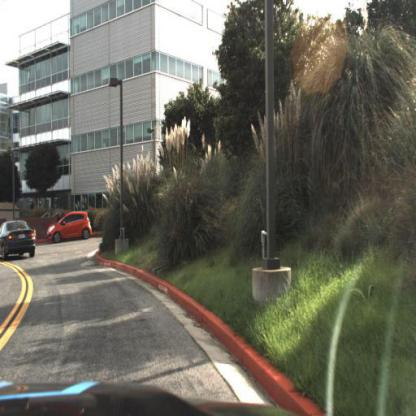car: (47, 209, 96, 245), (1, 219, 38, 263)
